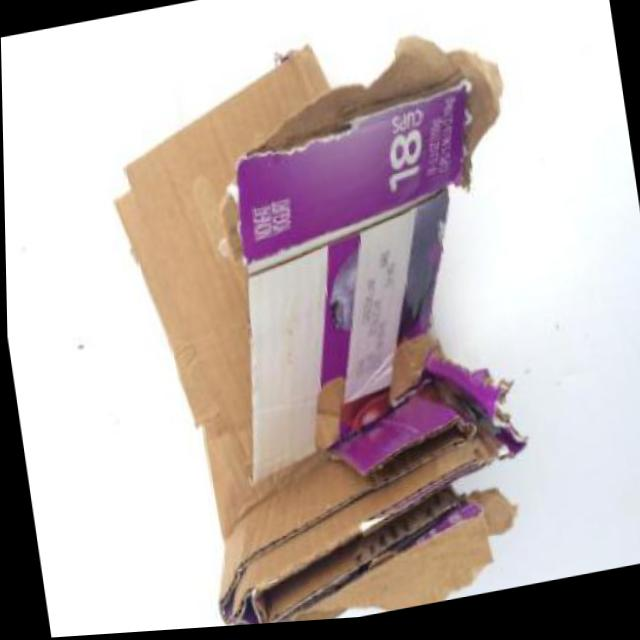box: (76, 0, 570, 636)
